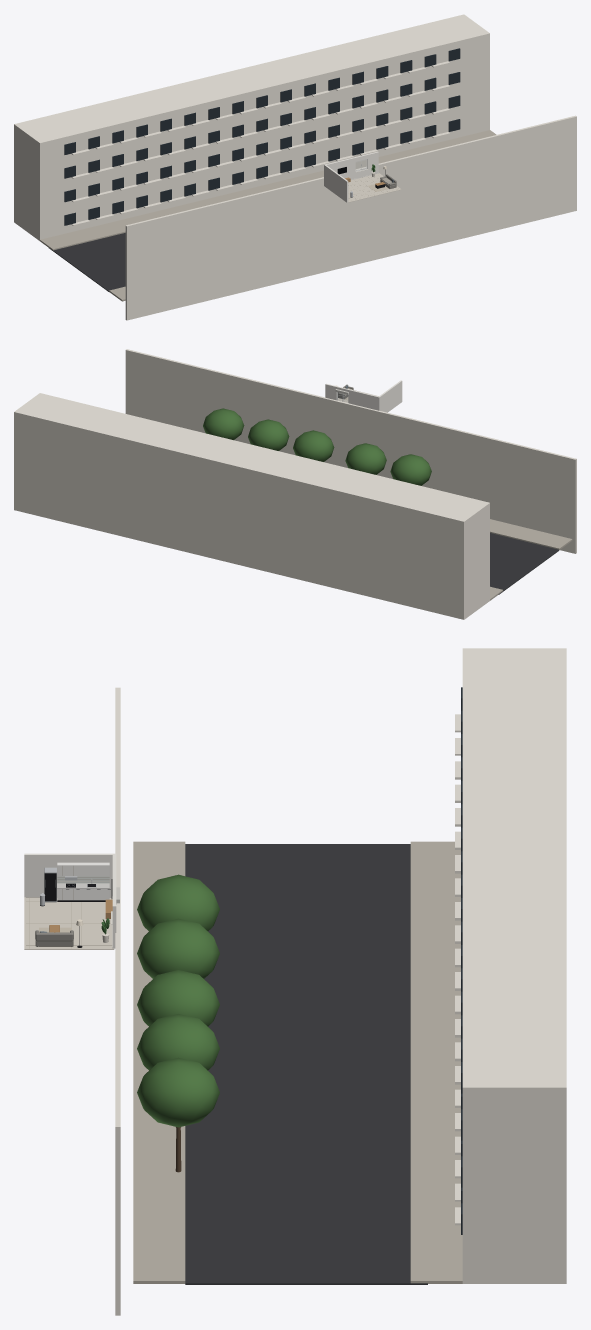
File: kitchenLiving.glb
3 views of the same model, one above another, from view 1: azimuth 30°, elevation 25°; view 2: azimuth 150°, elevation 25°; view 3: azimuth 270°, elevation 25° (orthographic). The views are drawn at different scales.
Visible parts, largest first — view 1: outside, wallBack, floor, wallLeft; view 2: outside, wallBack, wallLeft; view 3: outside, floor, wallLeft, kitchen.
Part boxes in pixels (x1,y1,x2,y2): outside: [14, 14, 576, 320]; wallBack: [324, 151, 378, 185]; floor: [348, 173, 401, 202]; wallLeft: [324, 165, 348, 202]; outside: [14, 349, 576, 619]; wallBack: [325, 383, 380, 410]; wallLeft: [379, 380, 402, 412]; outside: [115, 648, 566, 1315]; floor: [24, 897, 114, 949]; wallLeft: [24, 853, 112, 897]; kitchen: [57, 866, 110, 901].
Size of the model in its own units: 60 by 14.5 by 31.3.
